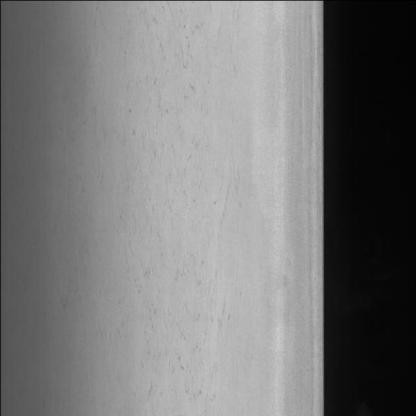silk_spot: (126, 23, 224, 416)
